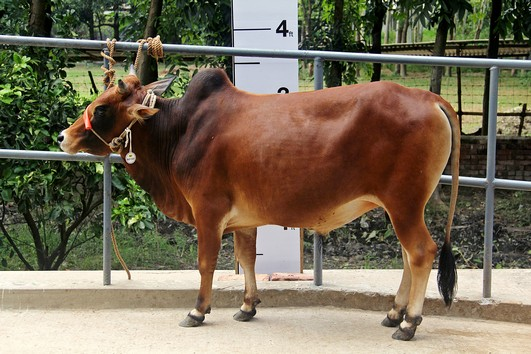cow: (52, 68, 461, 340)
